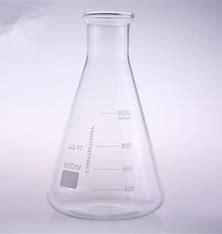Titrarion: (31, 5, 165, 218)
